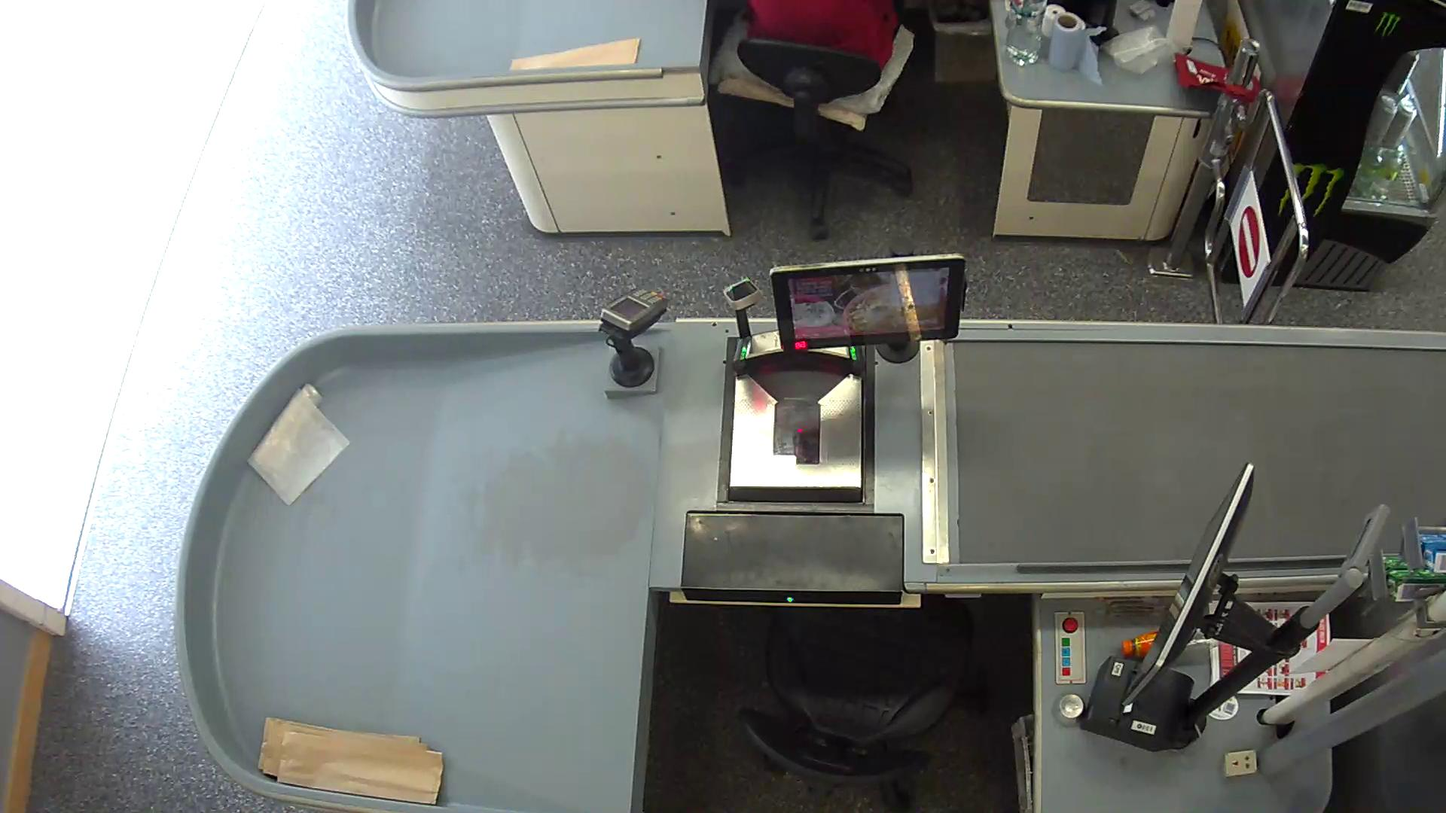occupied-checkout-counter: (663, 0, 1013, 245)
vacant-checkout-counter: (582, 250, 1390, 813)
